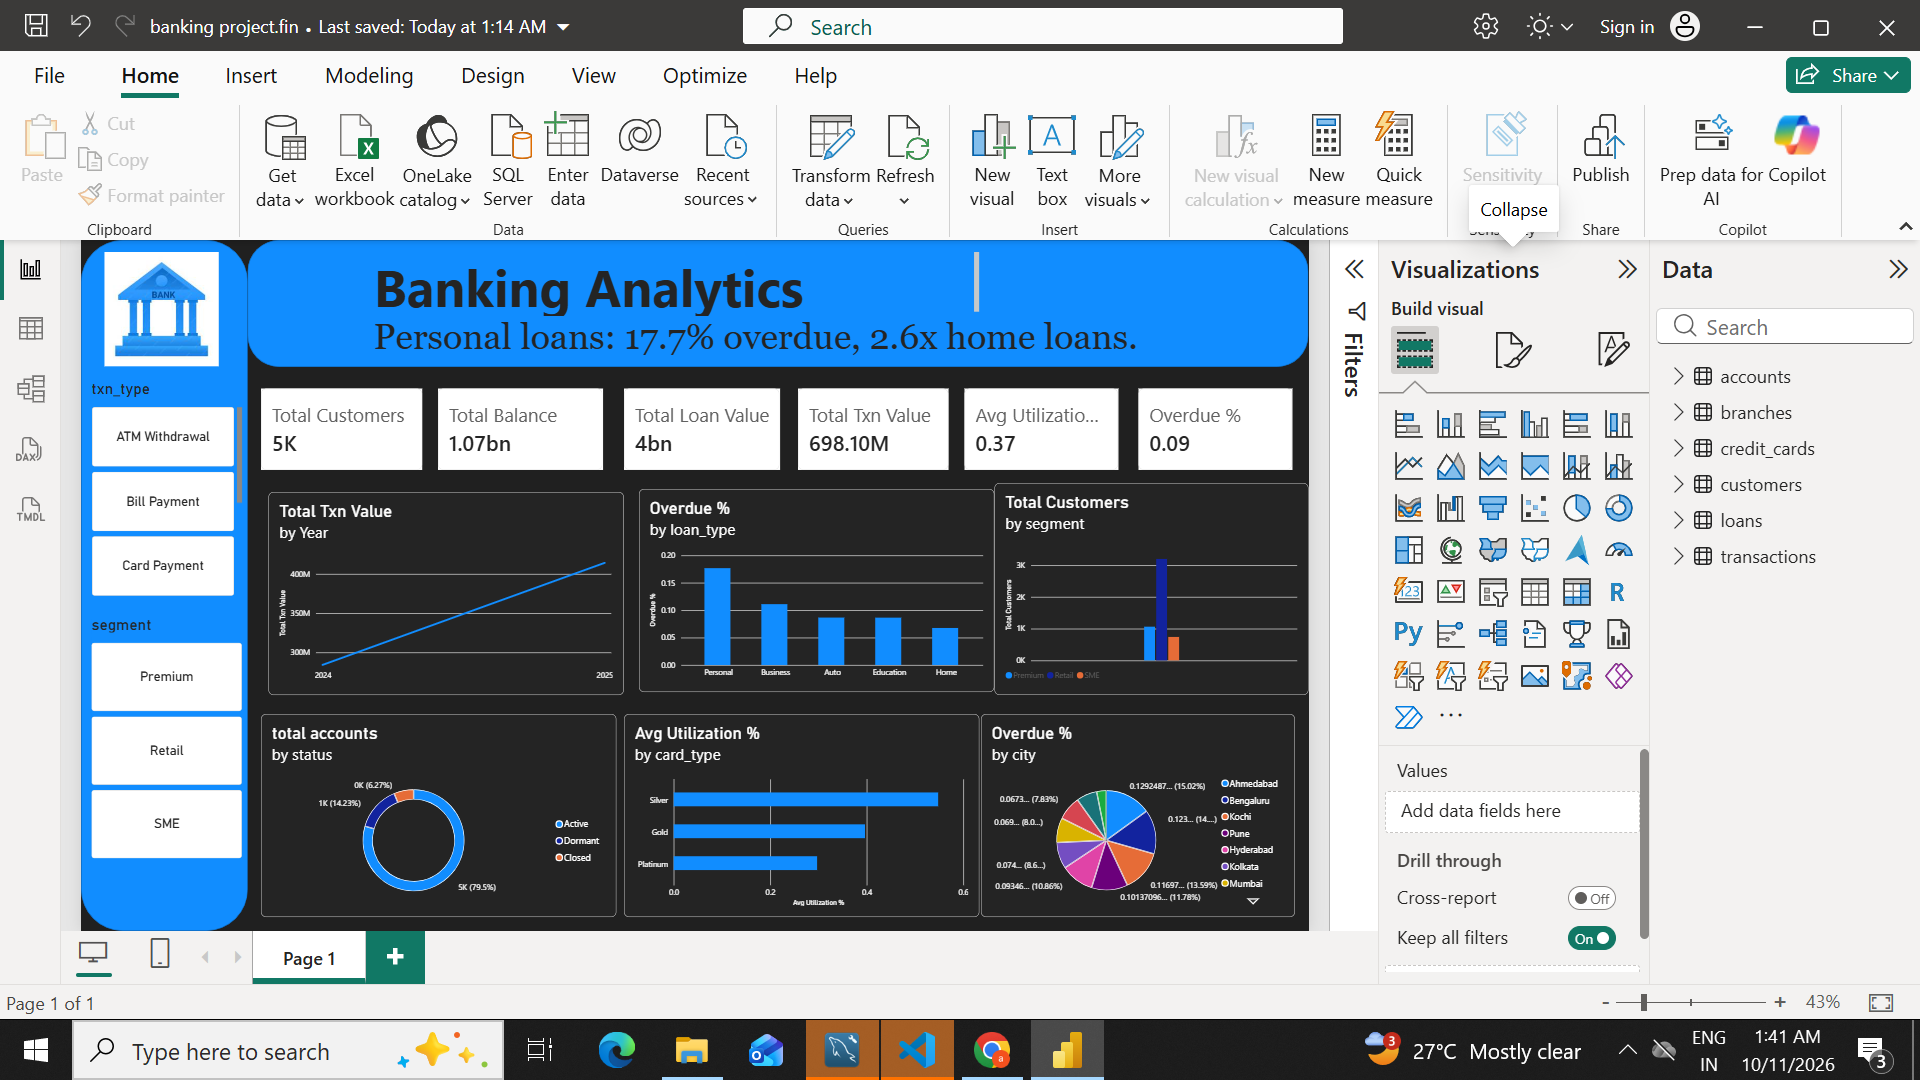

The page's visual inventory and layout, read from the dashboard file:
{"tool":"powerbi","page":{"name":"Page 1","canvas":[1920,1080],"ordinal":0},"visuals":[{"type":"shape","box":[0,0,260.8,1080],"z":0},{"type":"shape","box":[260.8,0,1658.3,198.4],"z":1000},{"type":"cardVisual","fields":{"Data":["accounts.Total Customers"]},"box":[280.6,232.4,252.3,127.6],"z":2000},{"type":"cardVisual","fields":{"Data":["accounts.Overdue %"]},"box":[1652.6,232.4,240.9,127.6],"z":3000},{"type":"cardVisual","fields":{"Data":["accounts.Avg Utilization %"]},"box":[1380.5,232.4,240.9,127.6],"z":4000},{"type":"cardVisual","fields":{"Data":["accounts.Total Txn Value"]},"box":[1119.7,232.4,235.3,127.6],"z":5000},{"type":"cardVisual","fields":{"Data":["accounts.Total Loan Value"]},"box":[847.6,232.4,243.8,127.6],"z":6000},{"type":"cardVisual","fields":{"Data":["accounts.Total Balance"]},"box":[558.4,232.4,258,127.6],"z":7000},{"type":"lineChart","fields":{"Category":["transactions.txn_date.Variation.Date Hierarchy.Year","transactions.txn_date.Variation.Date Hierarchy.Quarter","transactions.txn_date.Variation.Date Hierarchy.Month","transactions.txn_date.Variation.Date Hierarchy.Day"],"Y":["accounts.Total Txn Value"]},"box":[292,394,555.6,317.5],"z":8000},{"type":"columnChart","fields":{"Y":["accounts.Overdue %"],"Category":["loans.loan_type"]},"box":[873.1,388.3,555.6,317.5],"z":9000},{"type":"clusteredColumnChart","fields":{"Y":["accounts.Total Customers"],"Series":["customers.segment"]},"box":[1428.7,379.8,490.4,331.7],"z":10000},{"type":"donutChart","fields":{"Category":["accounts.status"],"Y":["accounts.total accounts"]},"box":[280.6,739.8,555.6,317.5],"z":11000},{"type":"clusteredBarChart","fields":{"Category":["credit_cards.card_type"],"Y":["accounts.Avg Utilization %"]},"box":[847.6,739.8,555.6,317.5],"z":12000},{"type":"pieChart","fields":{"Category":["customers.city"],"Y":["accounts.Overdue %"]},"box":[1406,739.8,490.4,317.5],"z":13000},{"type":"advancedSlicerVisual","fields":{"Values":["customers.segment"]},"box":[17,586.8,235.3,382.7],"z":14000},{"type":"advancedSlicerVisual","fields":{"Values":["transactions.txn_type"]},"box":[17,218.3,235.3,340.2],"z":15000},{"type":"textbox","box":[456.4,19.8,946.8,99.2],"z":16000},{"type":"textbox","box":[456.4,119.1,1281.3,90.7],"z":17000},{"type":"image","box":[0,19.8,252.3,178.6],"z":18000}]}

Visuals, with their boxes on the page's 1920x1080 design canvas (x1, y1, x2, y2). These are canvas units, not pixel positions in the 1920x1080 screenshot, which may show the page scaled, cropped or inside an application window:
shape: 0,0,261,1080
shape: 261,0,1919,198
cardVisual - accounts.Total Customers: 281,232,533,360
cardVisual - accounts.Overdue %: 1653,232,1894,360
cardVisual - accounts.Avg Utilization %: 1380,232,1621,360
cardVisual - accounts.Total Txn Value: 1120,232,1355,360
cardVisual - accounts.Total Loan Value: 848,232,1091,360
cardVisual - accounts.Total Balance: 558,232,816,360
lineChart - transactions.txn_date.Variation.Date Hierarchy.Year x transactions.txn_date.Variation.Date Hierarchy.Quarter: 292,394,848,712
columnChart - accounts.Overdue % x loans.loan_type: 873,388,1429,706
clusteredColumnChart - accounts.Total Customers x customers.segment: 1429,380,1919,712
donutChart - accounts.status x accounts.total accounts: 281,740,836,1057
clusteredBarChart - credit_cards.card_type x accounts.Avg Utilization %: 848,740,1403,1057
pieChart - customers.city x accounts.Overdue %: 1406,740,1896,1057
advancedSlicerVisual - customers.segment: 17,587,252,970
advancedSlicerVisual - transactions.txn_type: 17,218,252,558
textbox: 456,20,1403,119
textbox: 456,119,1738,210
image: 0,20,252,198
